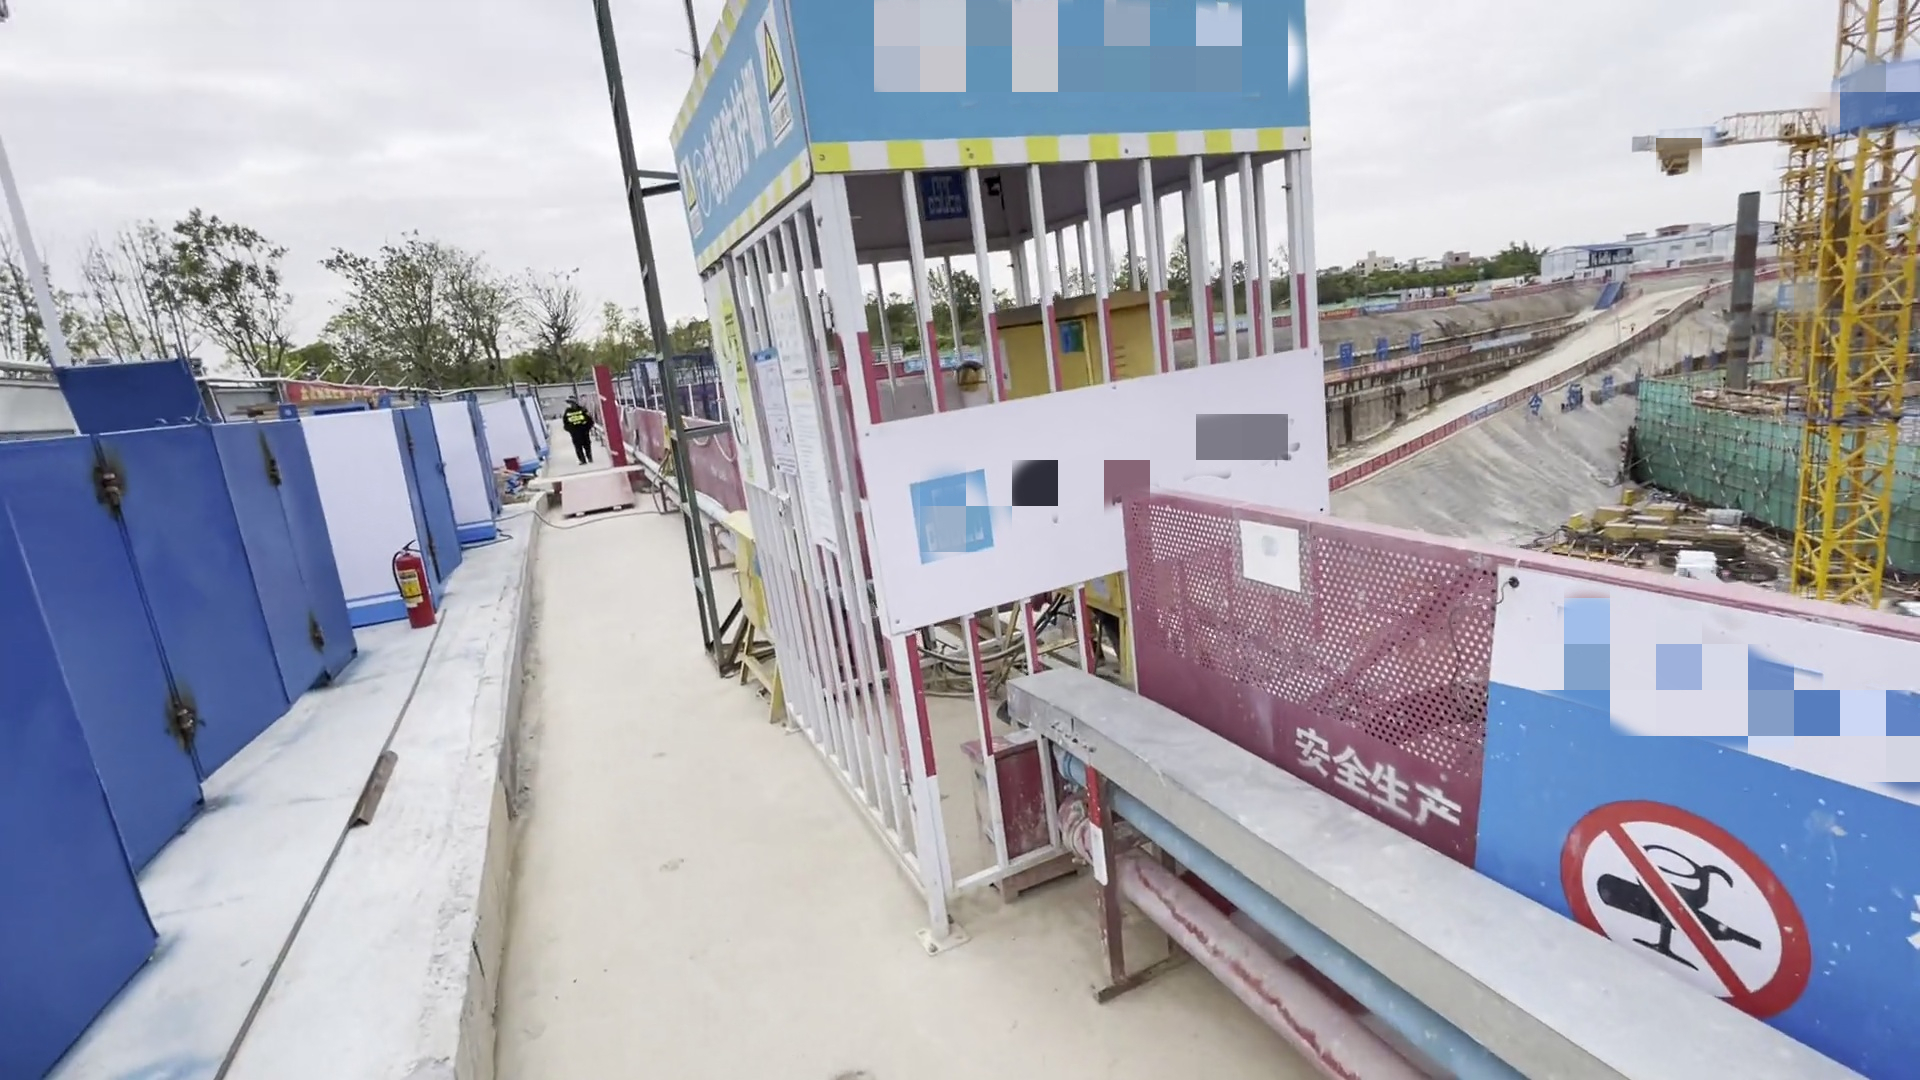board: (548, 466, 664, 530)
ebox: (960, 281, 1204, 654), (717, 497, 808, 732)
fence: (1103, 491, 1920, 1080), (626, 407, 746, 509)
helmet: (564, 393, 579, 404)
person: (556, 388, 605, 470)
scaffold: (1674, 545, 1728, 583), (1703, 504, 1751, 528)
slogan: (1464, 558, 1920, 1080), (630, 1, 1356, 287), (841, 346, 1346, 665), (691, 295, 850, 555), (272, 370, 404, 409), (398, 558, 440, 614)
vest: (562, 408, 597, 435)
wood: (1641, 499, 1683, 524)
